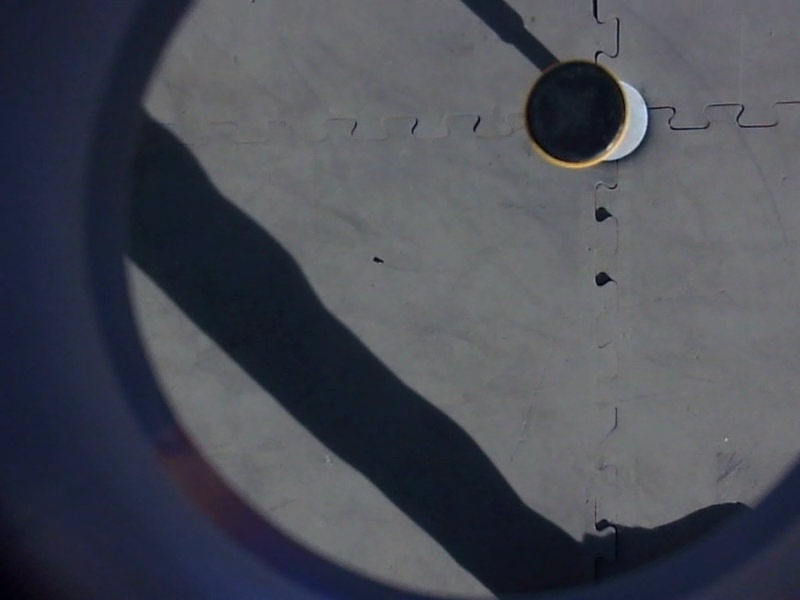tip: (513, 54, 638, 174)
